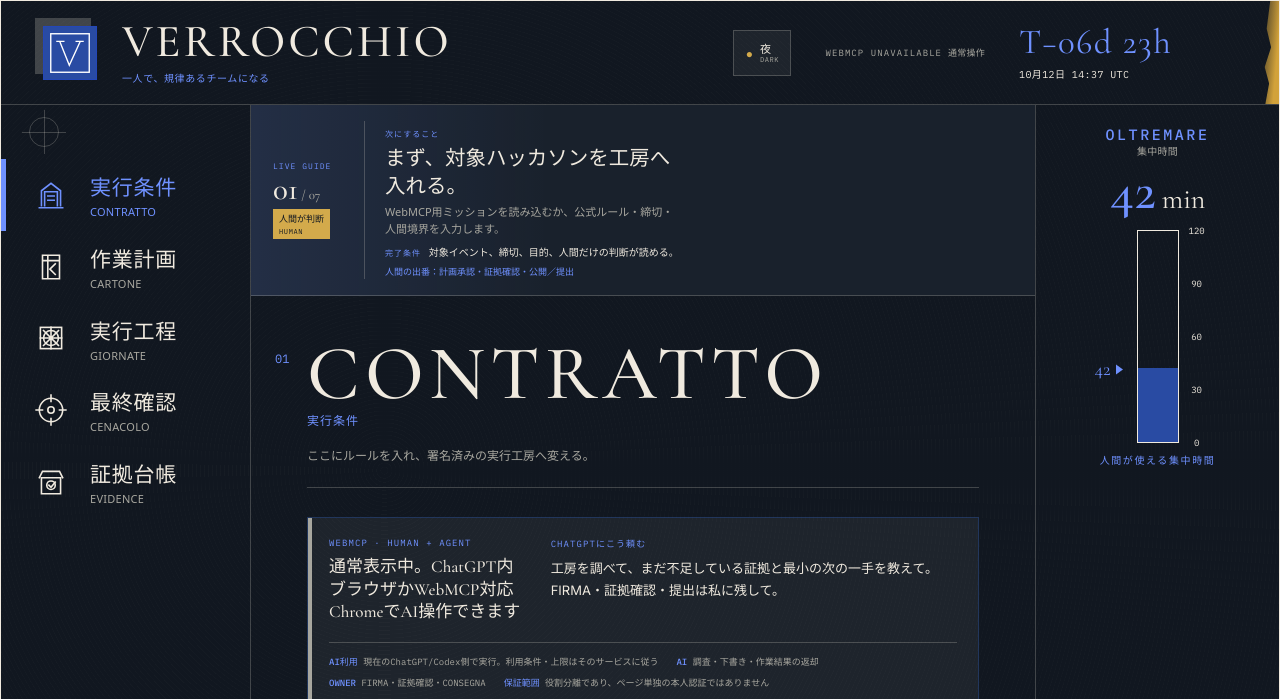
Test: VERROCCHIO core path › CAPOBOTTEGA truthfully routes thinking to the ChatGPT or Codex host
Click the button with aria-label "実行工程を開く".
click(126, 338)  # box x1=1 y1=302 x2=250 y2=374
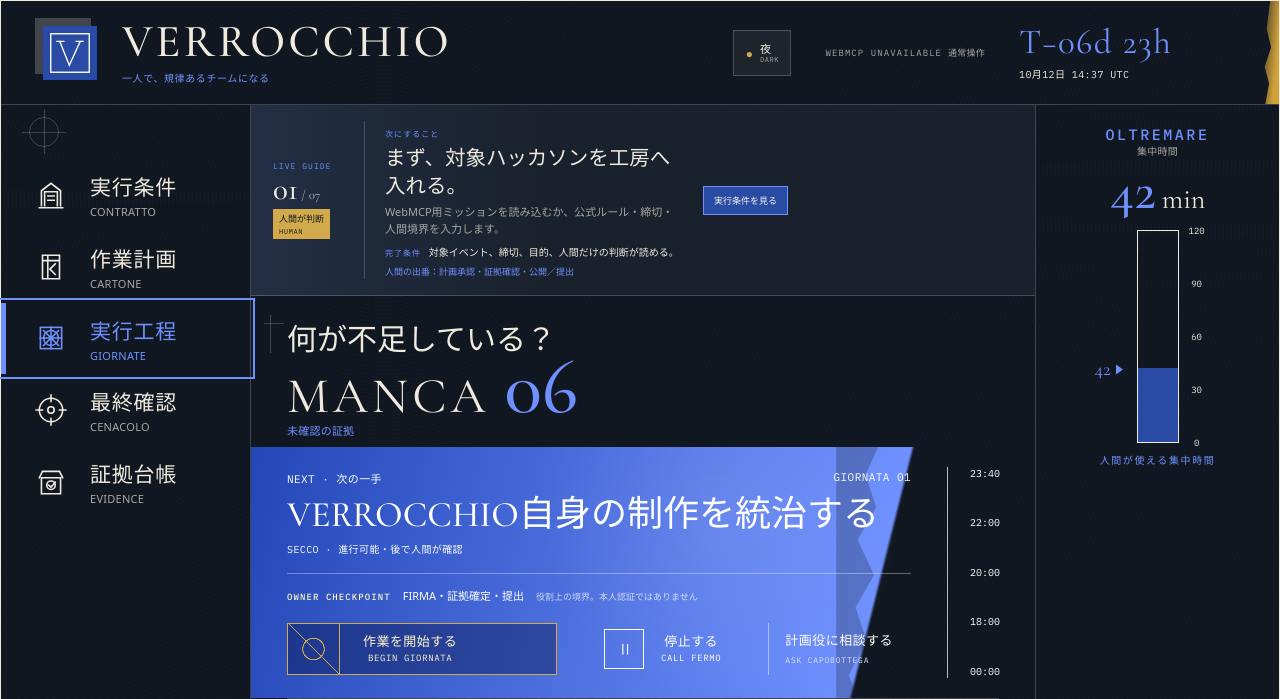
Click the button "計画役に相談する ASK CAPOBOTTEGA".
click(839, 649)  # box x1=768 y1=623 x2=909 y2=675
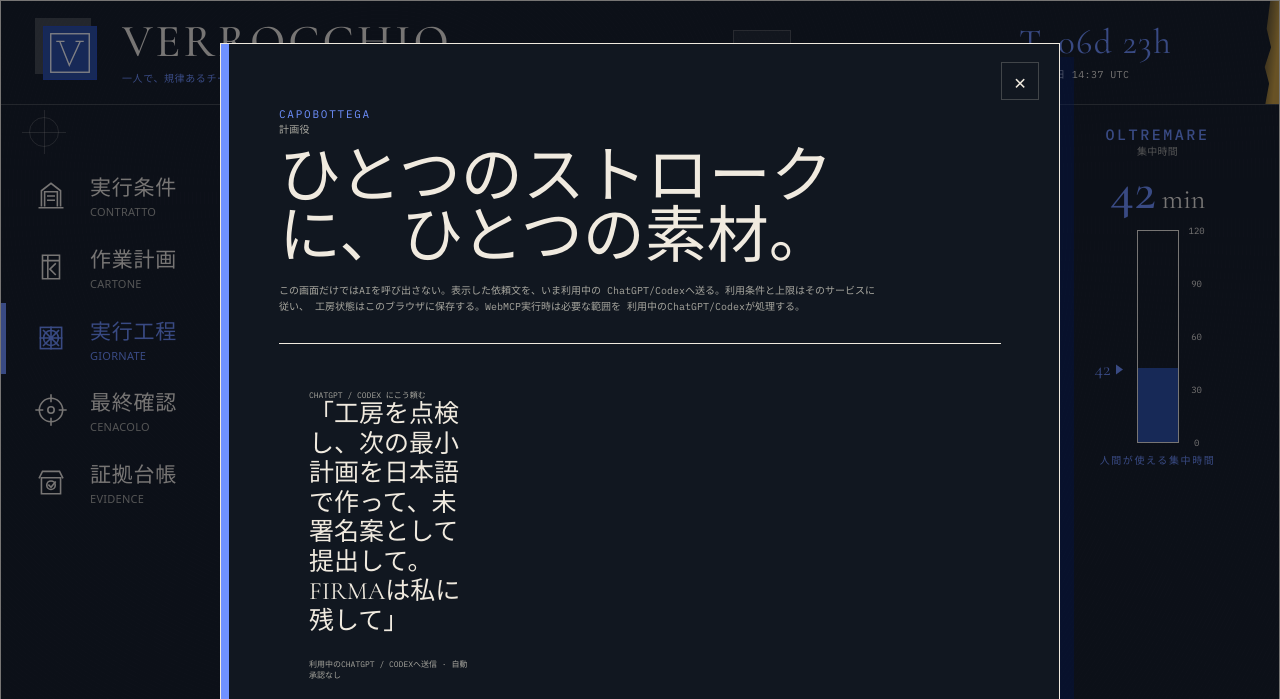
Expected: the text "工房状態はこのブラウザに保存する" is shown, x1=279 y1=284 x2=875 y2=313
